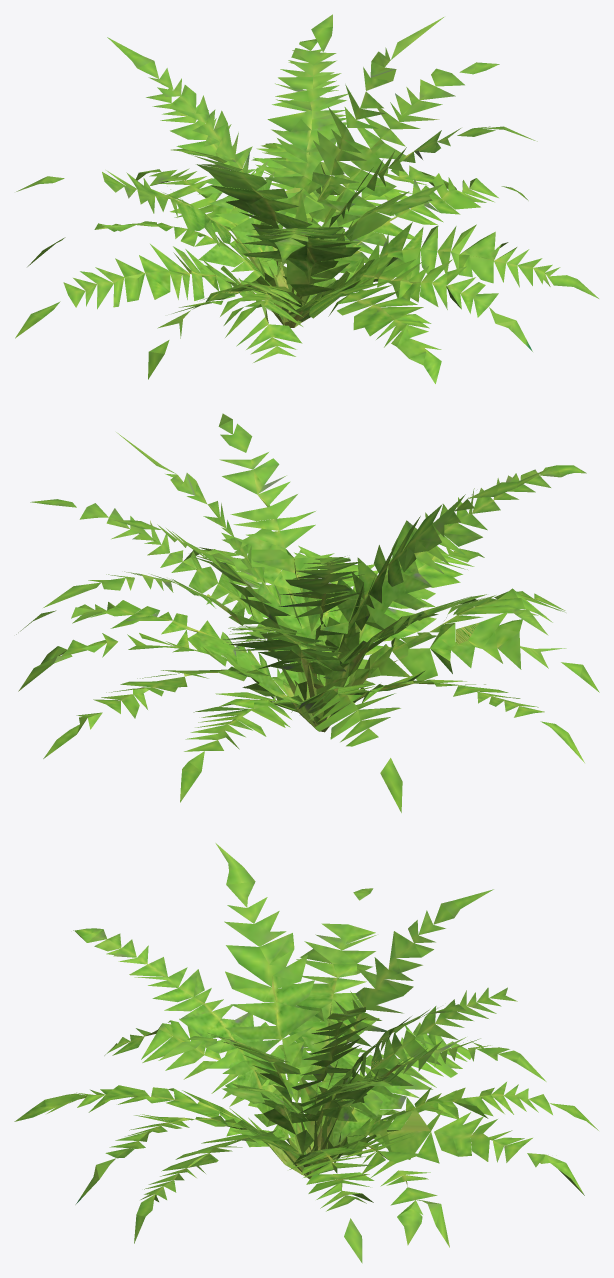
Rendered from fern.glb.
3 renders of one model, top to bottom at view 1: azimuth 30°, elevation 25°; view 2: azimuth 150°, elevation 25°; view 3: azimuth 270°, elevation 25°, orthographic. The views are drawn at different scales.
Bounding box in the file's own units: 1.9 × 0.8816 × 1.84.
1 material, 1 textured.
